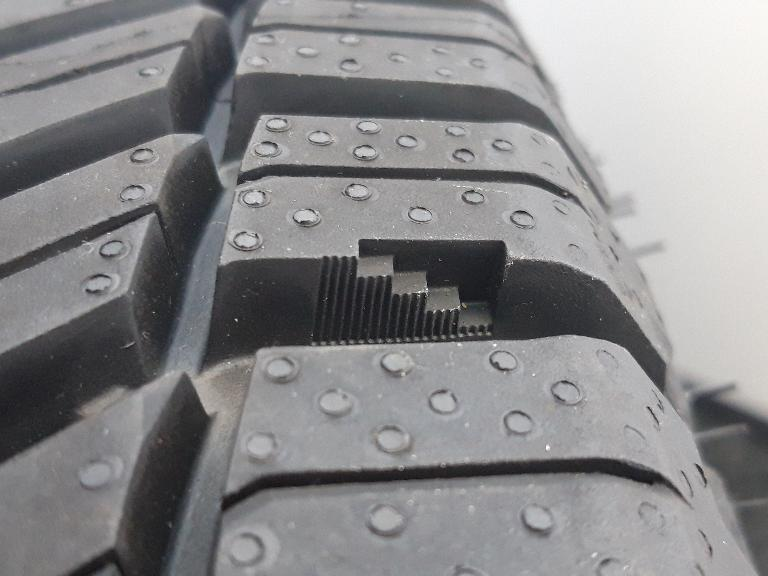temoin:100: (308, 234, 517, 352)
